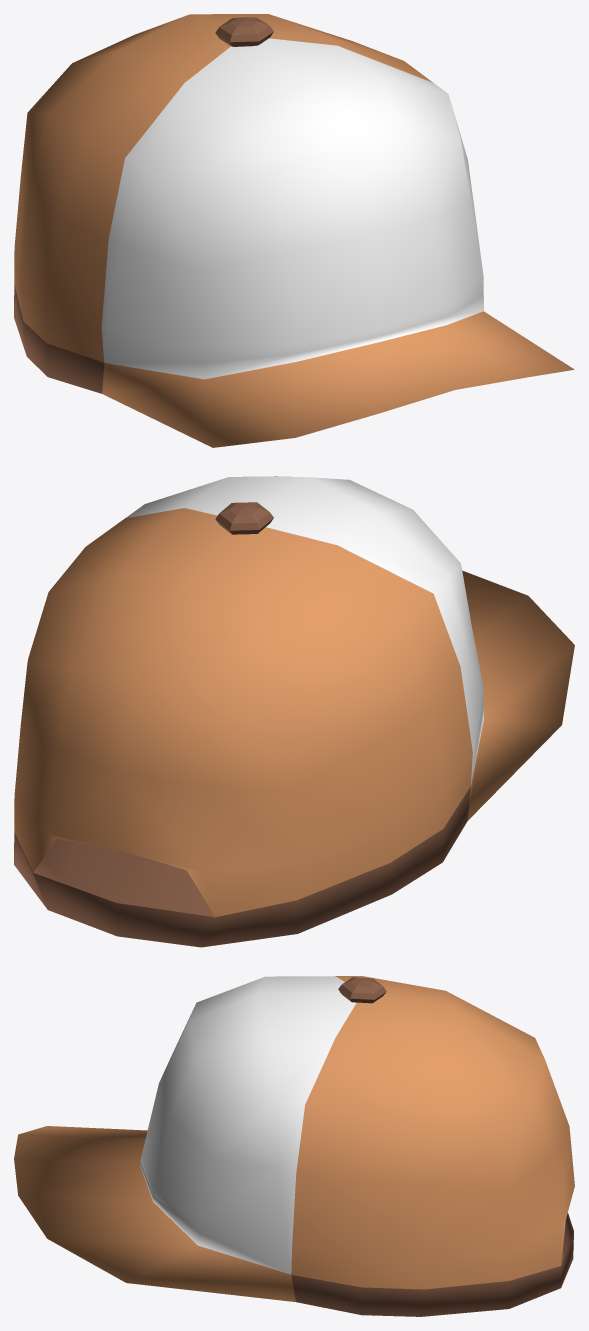
Rendered from cap.glb.
The picture shows the model from 3 angles, top to bottom: view 1: azimuth 30°, elevation 25°; view 2: azimuth 150°, elevation 25°; view 3: azimuth 270°, elevation 25°; orthographic projection. The views are drawn at different scales.
Visible parts, largest first — view 1: cap; view 2: cap; view 3: cap.
Part boxes in pixels (x1,y1,x2,y2): cap: [14, 14, 574, 447]; cap: [14, 476, 574, 947]; cap: [14, 976, 574, 1316].
Size of the model in its own units: 0.9949 by 0.802 by 1.47.
